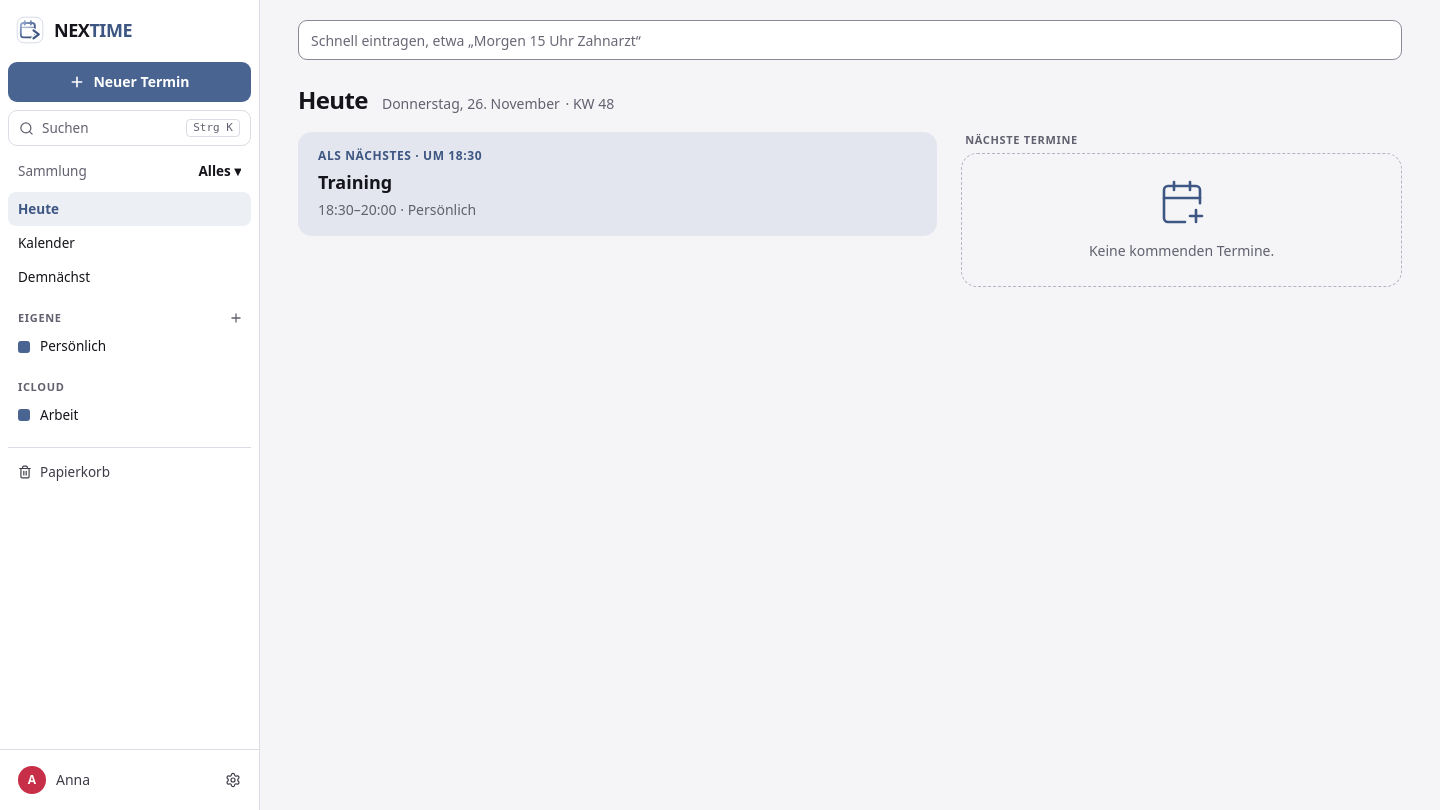
Test: TIME-9 the attachments of an event › TIME-9 AC-1 each with preview, name, size and pages; PDFs and pictures open, other files download
Click the button with test id "next-day-row". click: (400, 156)
box: [298,132,937,236]
(page scrolled)
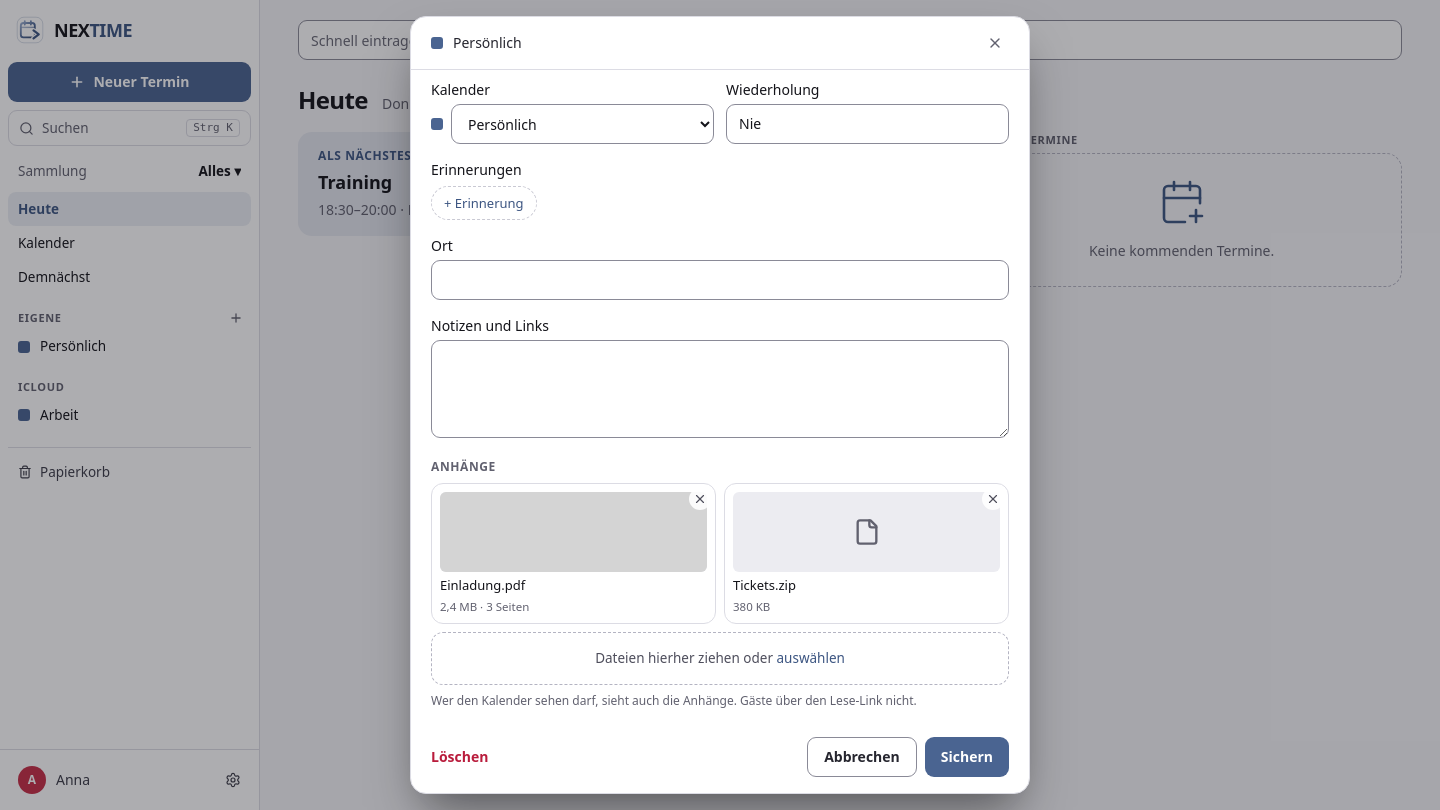
Result: the list item with test id "attachment" shows "2,4 MB · 3 Seiten" at [440,599,529,614]
Result: the list item with test id "attachment" shows "380 KB" at [733,599,770,614]
